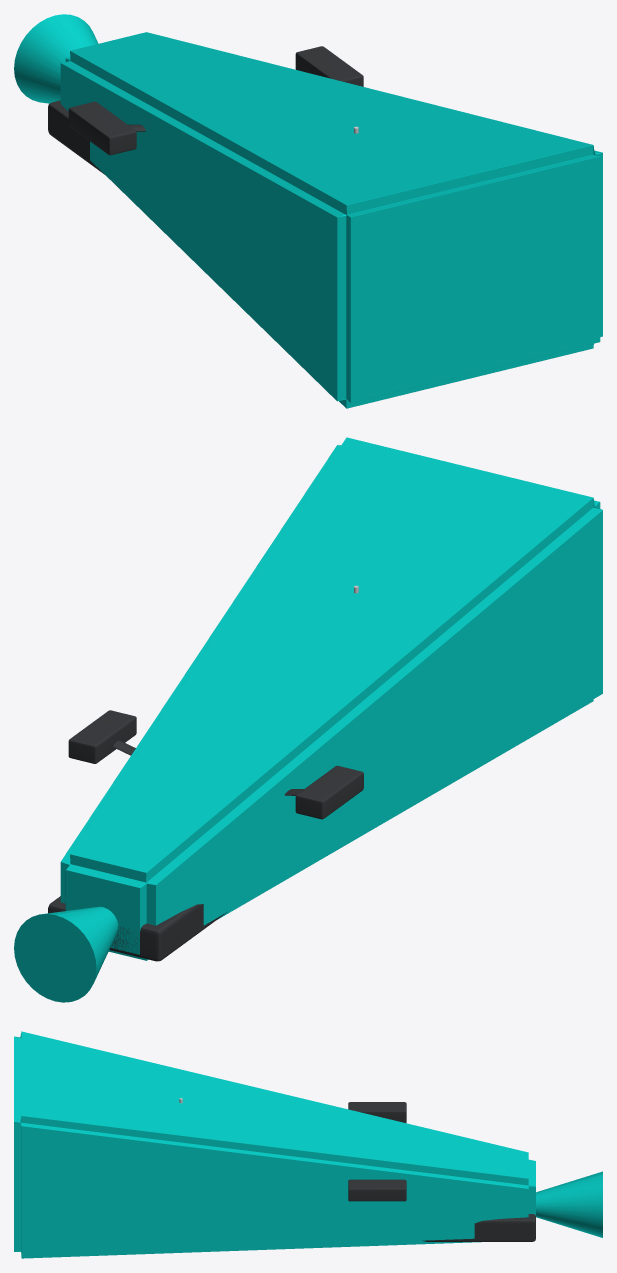
File: f1_nose_undercut.glb
3 views of the same model, one above another, from view 1: azimuth 30°, elevation 25°; view 2: azimuth 150°, elevation 25°; view 3: azimuth 270°, elevation 25° (orthographic). The views are drawn at different scales.
Parts seen in each view (by area): view 1: F1_Nose_Undercut; view 2: F1_Nose_Undercut; view 3: F1_Nose_Undercut.
Part boxes in pixels (<box>): F1_Nose_Undercut: <box>14,14,602,408</box>; F1_Nose_Undercut: <box>14,437,602,1002</box>; F1_Nose_Undercut: <box>14,1031,602,1258</box>.
Bounding box in the file's own units: 0.5151 × 0.4264 × 1.41.
